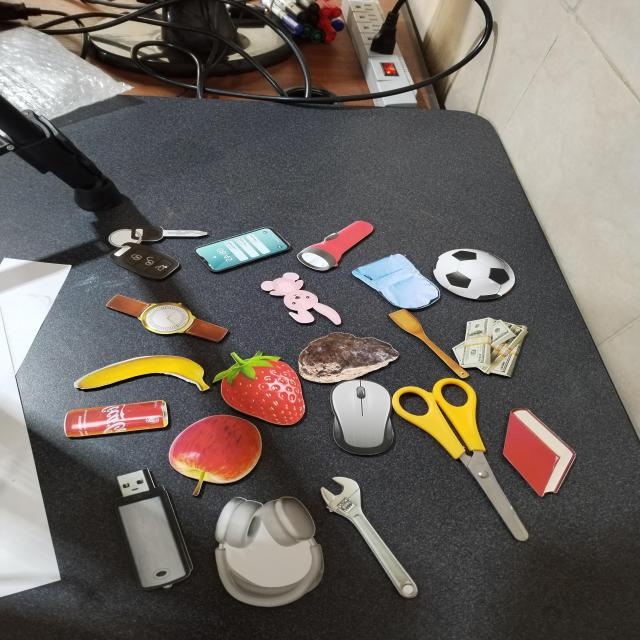Other Objects: (391, 377, 530, 542), (313, 472, 426, 606), (214, 495, 325, 608), (106, 466, 198, 592), (168, 414, 263, 497), (422, 237, 527, 311), (350, 245, 449, 320), (101, 219, 208, 284), (388, 306, 472, 383), (102, 294, 233, 343), (294, 216, 385, 277), (298, 331, 401, 384), (330, 378, 396, 456), (73, 355, 210, 392), (452, 317, 529, 377), (194, 226, 292, 273), (261, 271, 343, 325), (64, 399, 170, 439)
